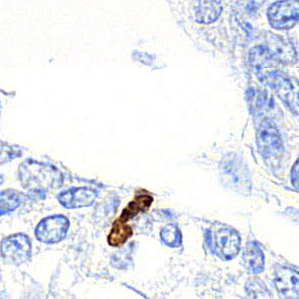Lymphocyte: (108, 189, 154, 248)
